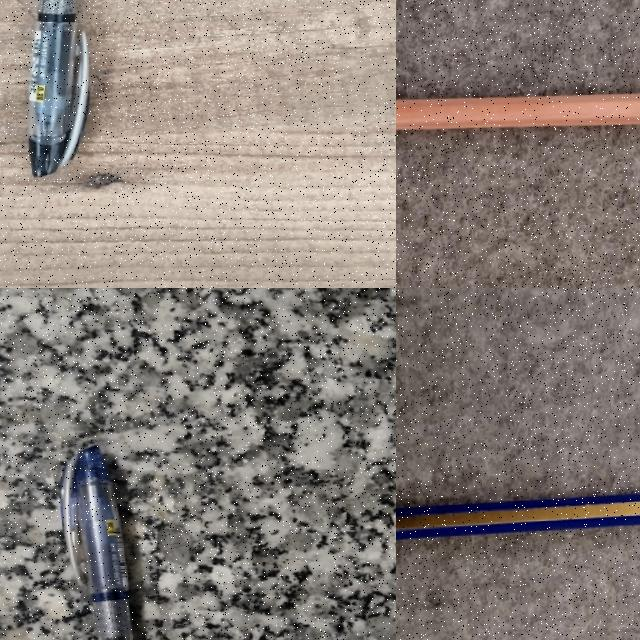pen: (62, 446, 133, 639), (28, 0, 88, 176)
pencil: (396, 495, 639, 539), (396, 94, 639, 129)
